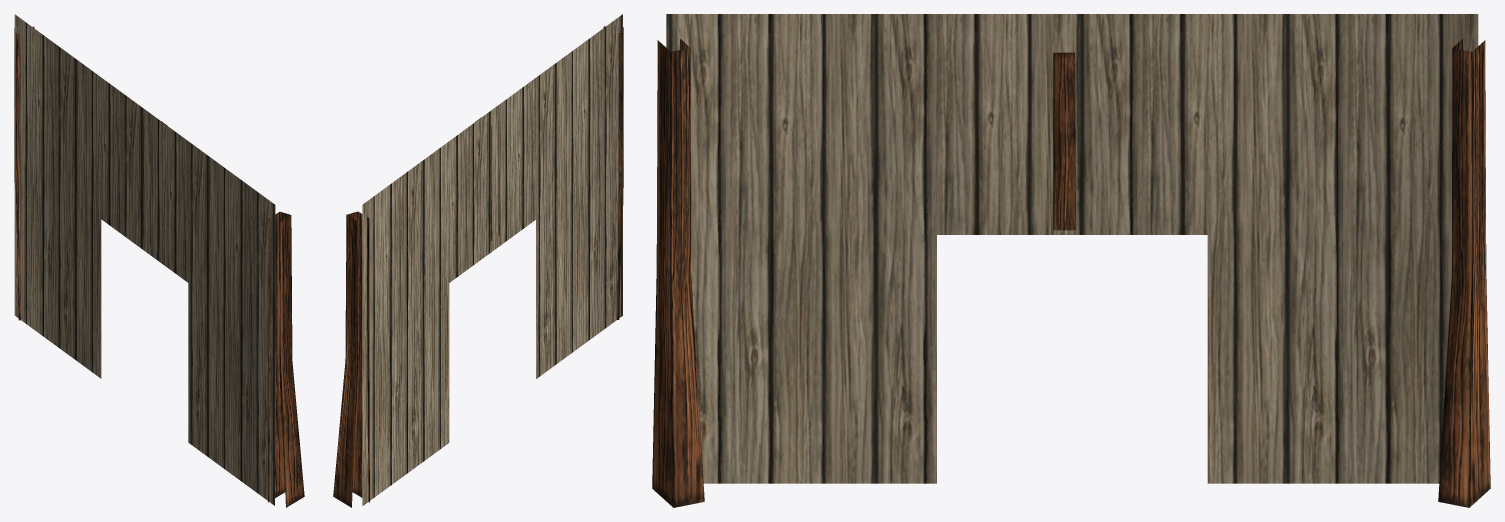
File: LAKETOWN_WAREHOUSE2_PS_WH2_FRONTWALL47474__GX.fbx
3 renders of one model, left to right at view 1: azimuth 30°, elevation 25°; view 2: azimuth 150°, elevation 25°; view 3: azimuth 270°, elevation 25°, orthographic. The views are drawn at different scales.
Parts seen in each view (by area): view 1: LAKETOWN_WAREHOUSE2_PS_WH2_FRONTWALL47474__GX; view 2: LAKETOWN_WAREHOUSE2_PS_WH2_FRONTWALL47474__GX; view 3: LAKETOWN_WAREHOUSE2_PS_WH2_FRONTWALL47474__GX.
Boxes of the visible parts, x1,y1,x2,y2 form: LAKETOWN_WAREHOUSE2_PS_WH2_FRONTWALL47474__GX: (14, 14, 304, 507); LAKETOWN_WAREHOUSE2_PS_WH2_FRONTWALL47474__GX: (333, 14, 623, 507); LAKETOWN_WAREHOUSE2_PS_WH2_FRONTWALL47474__GX: (652, 14, 1490, 507).
Size of the model in its own units: 6330 by 52184 by 84419.
Materials: 2 (2 with a texture image).
